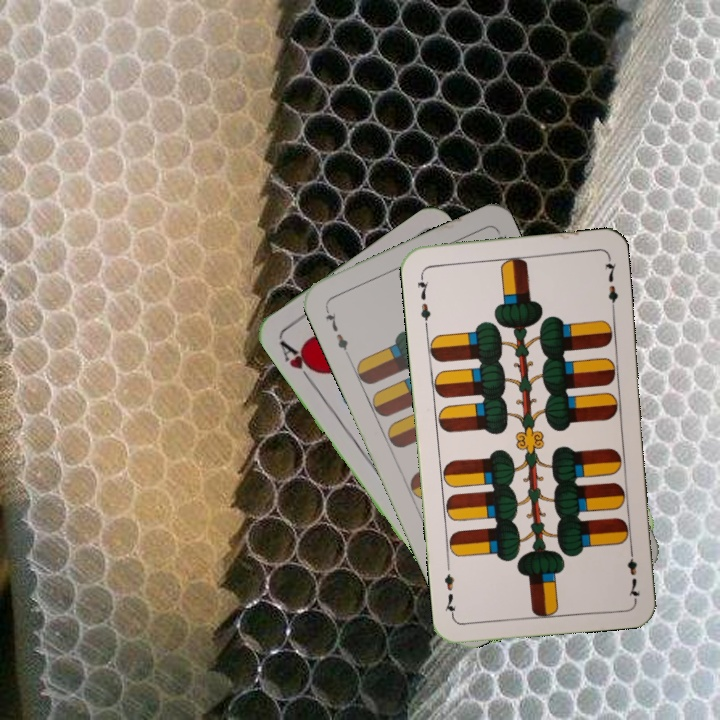E7: (321, 303, 351, 353), (413, 270, 434, 329), (623, 542, 642, 601)
HA: (275, 336, 321, 387)
